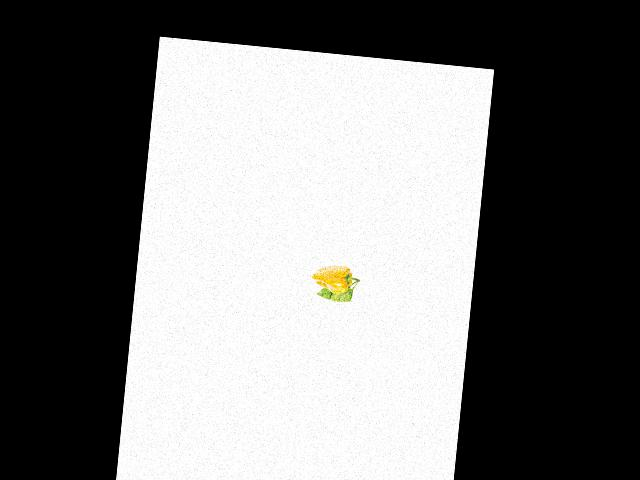bell_pepper: (309, 260, 362, 296)
